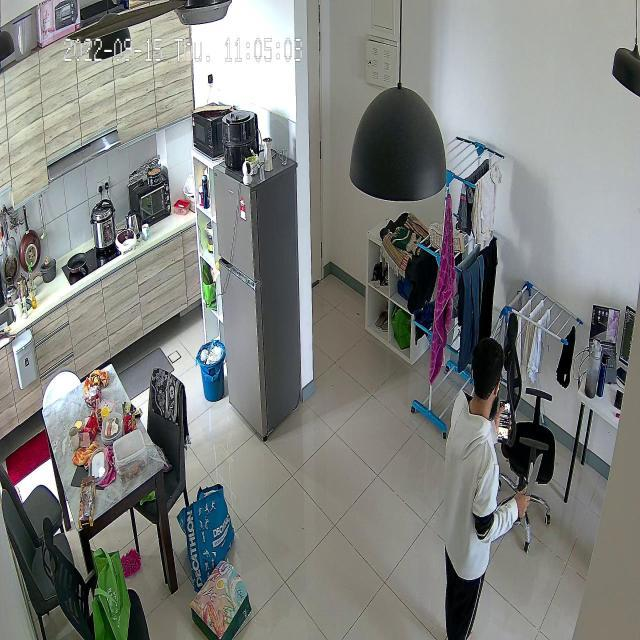Knife: (523, 445, 554, 511)
